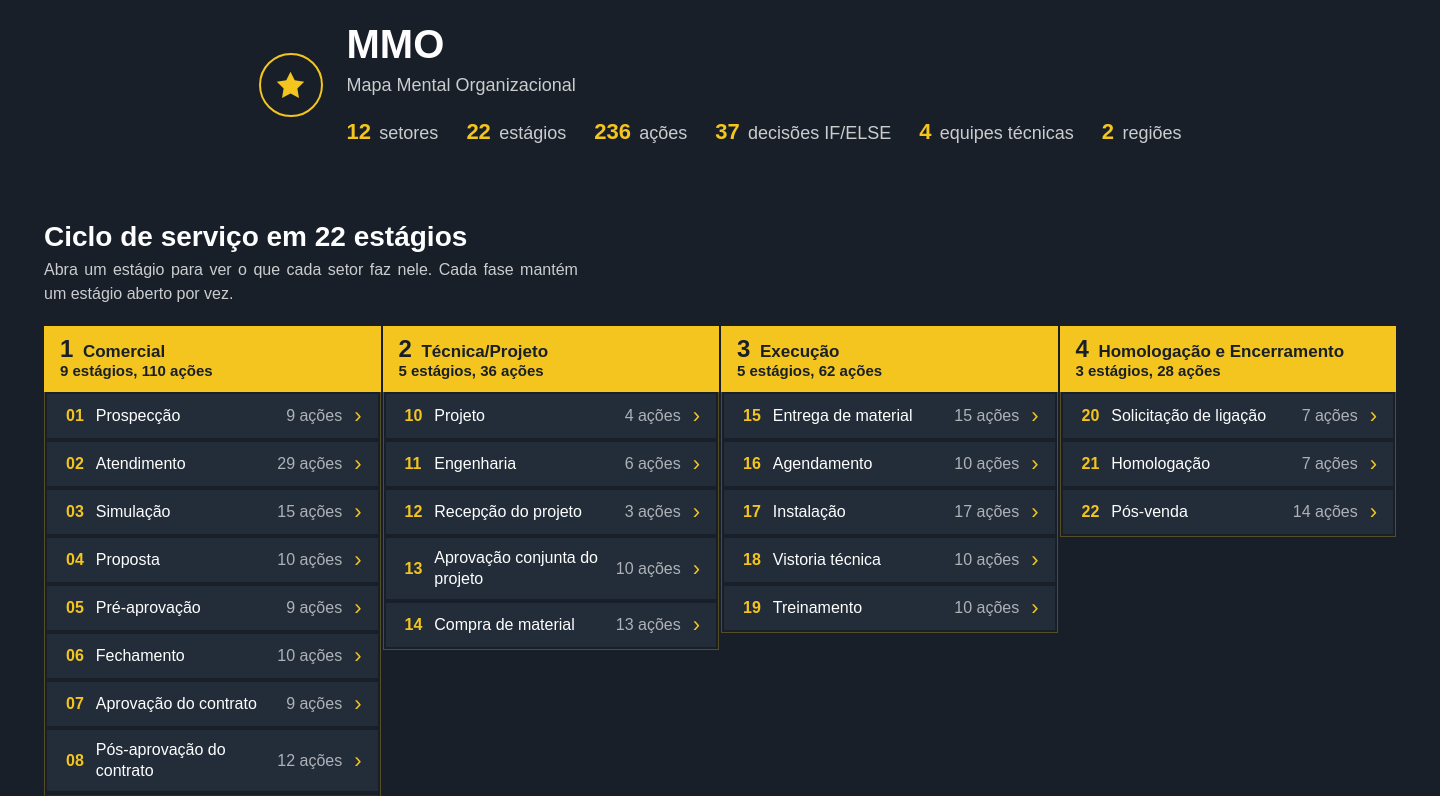
tela MMO renderizada › Est. 02: mostra a triagem por perfil, a classificação do lead e as oportunidades; Est. 22 mostra as de pós-venda
The image size is (1440, 796).
Click the button "02 Atendimento 29 ações ›": (141, 463) x1=47 y1=442 x2=378 y2=486
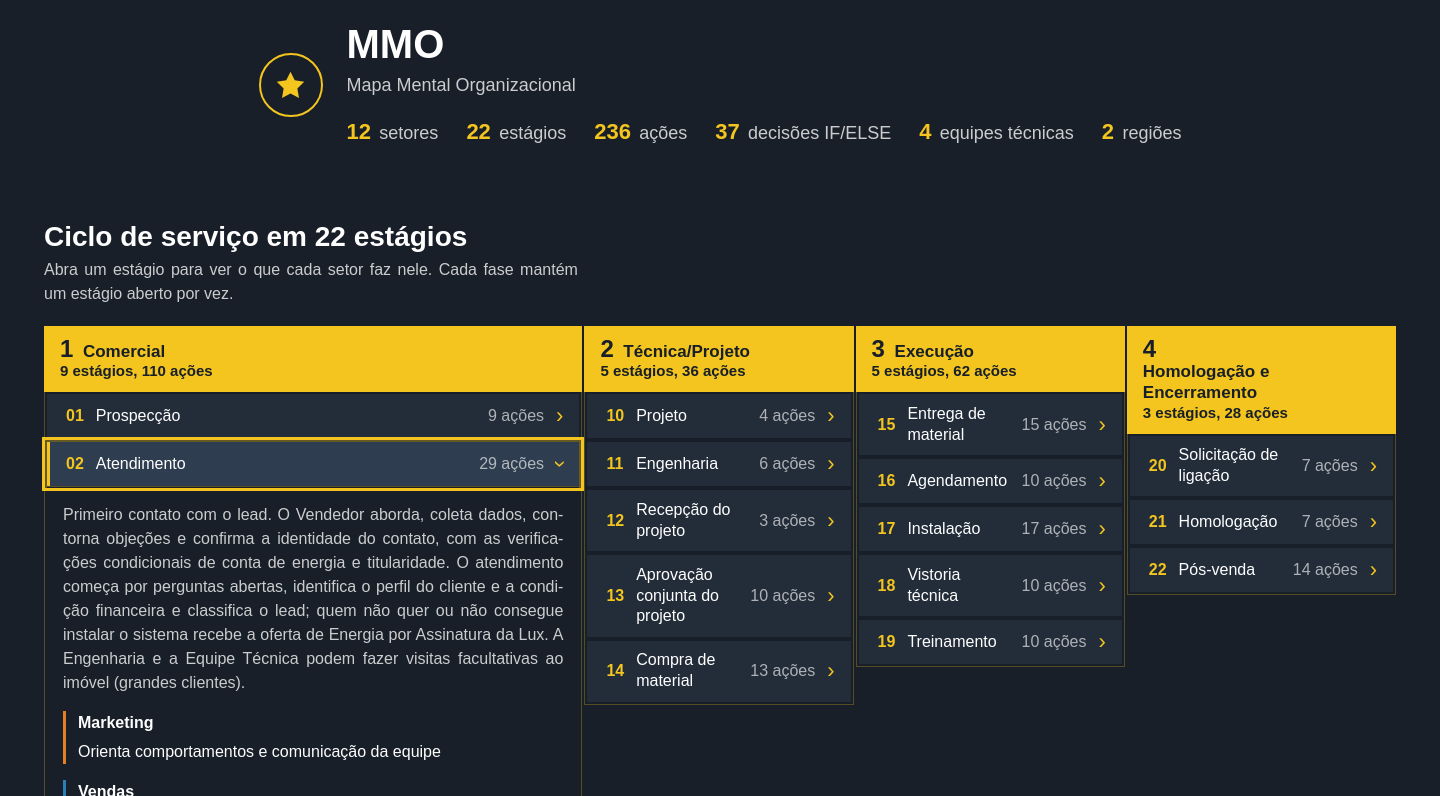
Click the button "22 Pós-venda 14 ações ›": (1217, 569) x1=1130 y1=548 x2=1393 y2=592
(page scrolled)
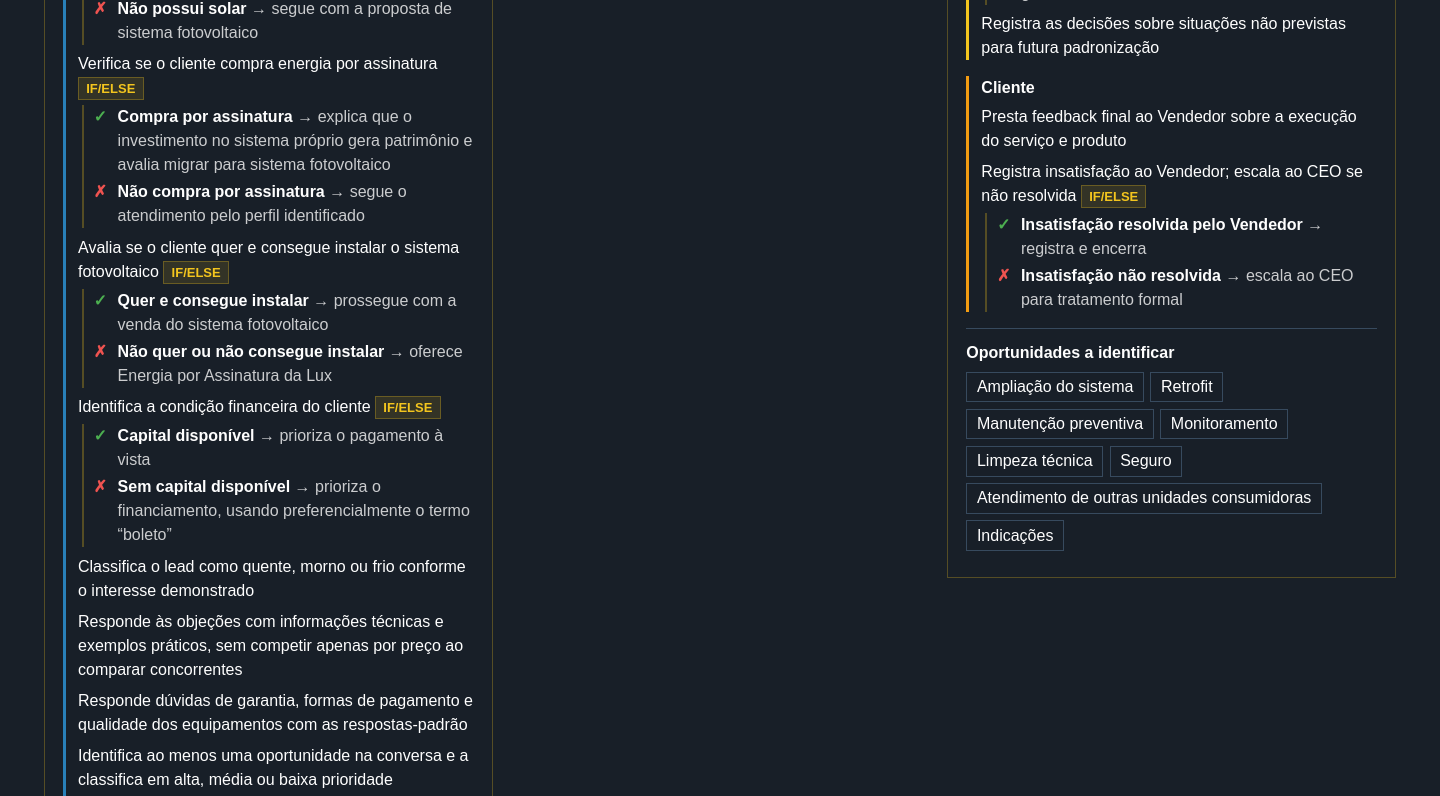
Check: the element "Oportunidades a identificar" shows "Retrofit", box x1=1161 y1=378 x2=1213 y2=395
Check: the element "Oportunidades a identificar" shows "Limpeza técnica", box x1=977 y1=452 x2=1092 y2=469
Check: the element "Oportunidades a identificar" shows "Indicações", box x1=977 y1=527 x2=1053 y2=544
